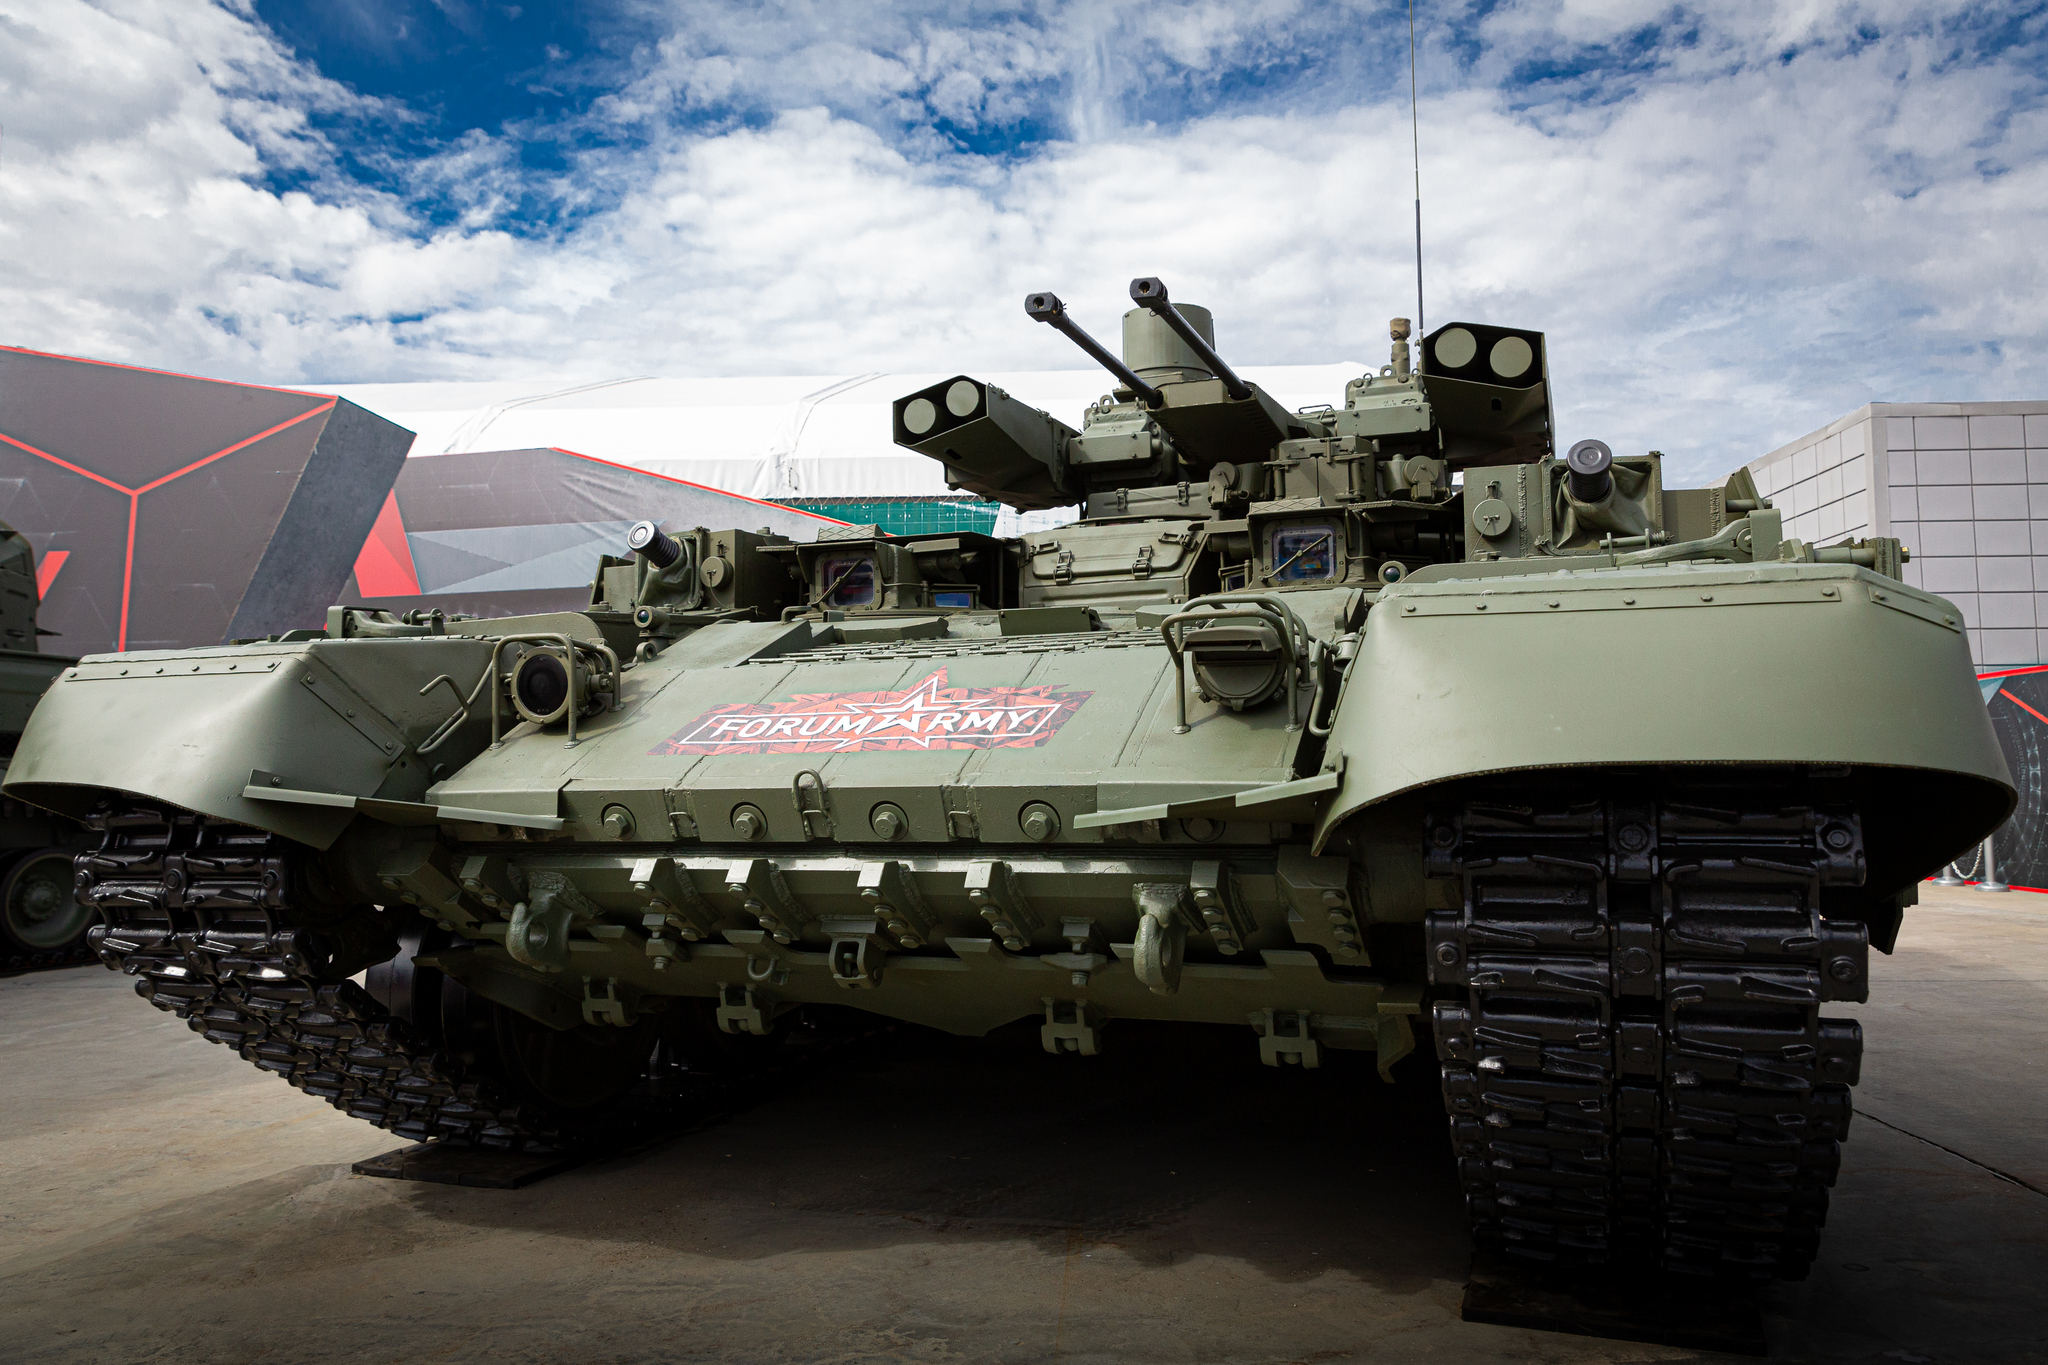tank: (2, 331, 2015, 1309)
